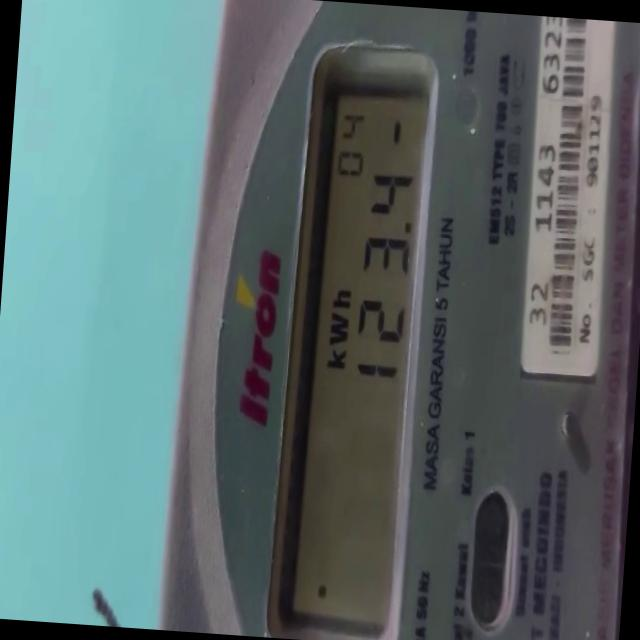LCD: (276, 52, 438, 633)
